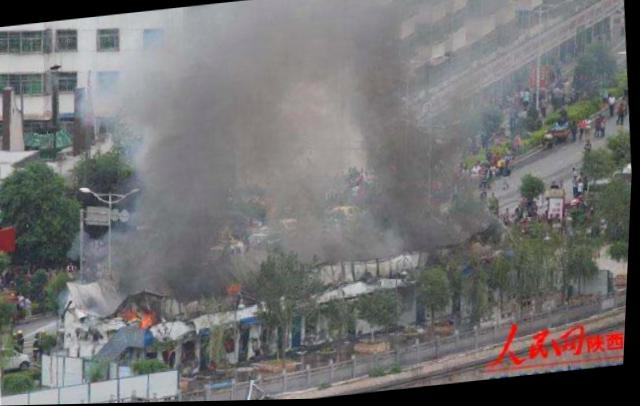smoke: (106, 57, 256, 296), (334, 45, 478, 259)
